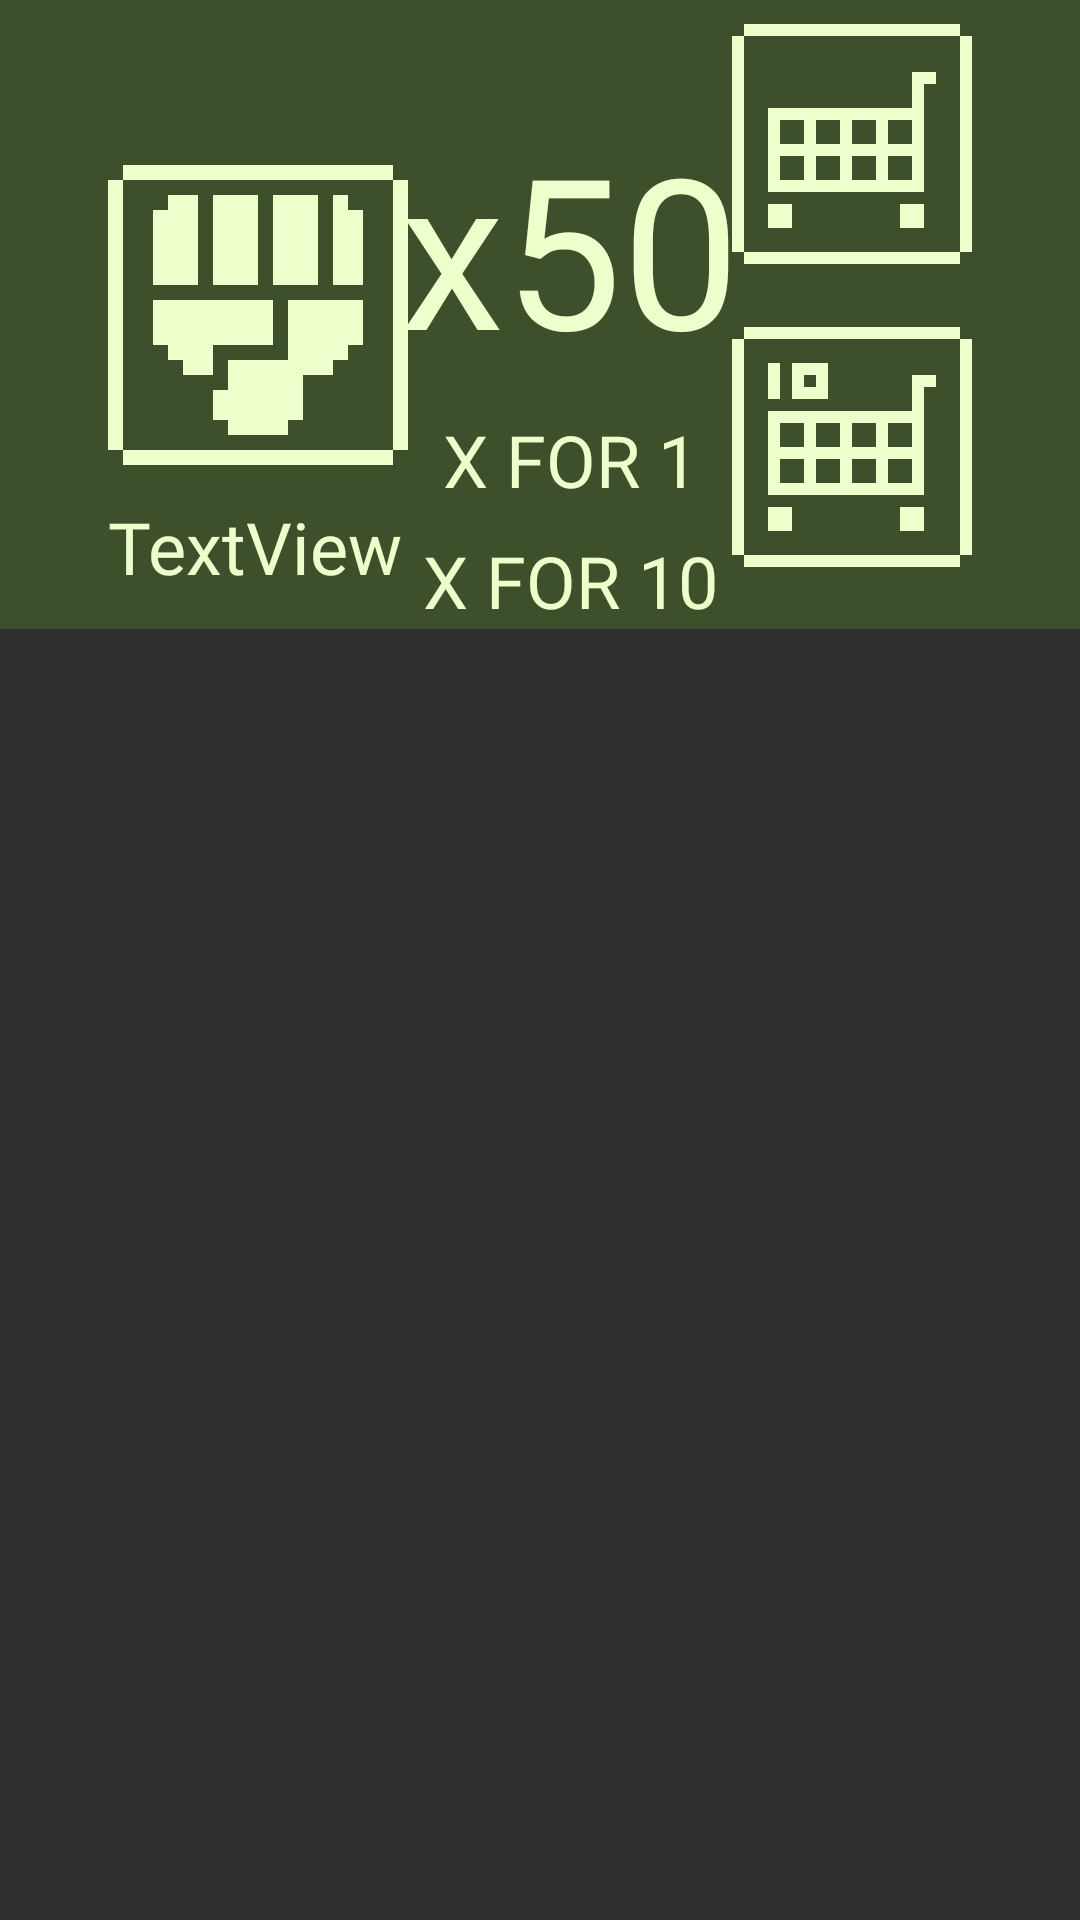

Icon click points for this 1080 × 1920 phone screenshot, format [x,y]:
buy: [852,144], [852,447]
wep fist: [258,315]
